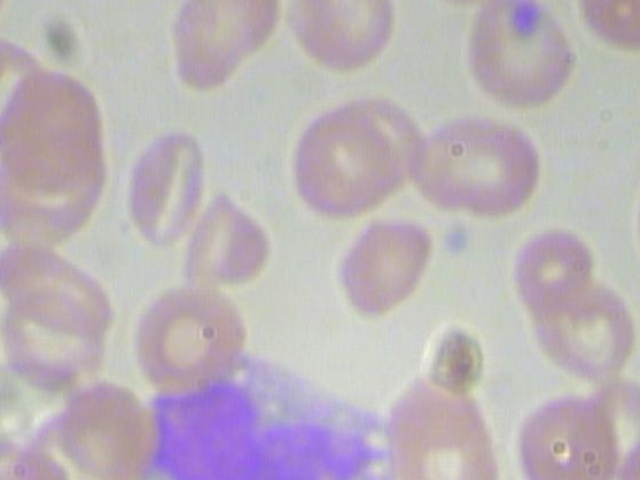RBC: (395, 101, 564, 230), (128, 286, 262, 406), (284, 98, 410, 217), (454, 0, 581, 118), (321, 210, 444, 319), (154, 0, 280, 96), (113, 126, 213, 246), (383, 379, 496, 480), (510, 388, 626, 480), (280, 0, 403, 81), (508, 221, 598, 312)
WBC: (133, 339, 393, 480)
